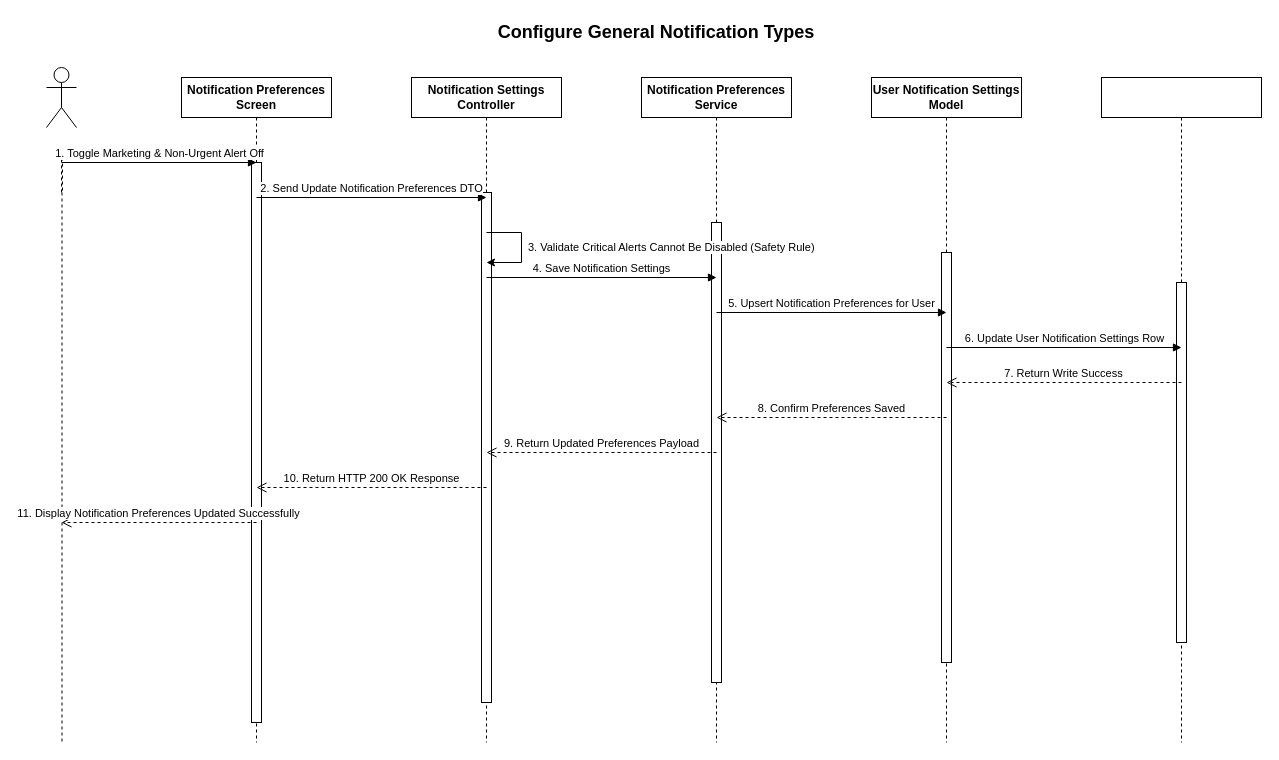
Image size: 1279x760. Some labels were removed from this diagram. Here are the shapes that lost their labels. From the top down, the box of each, then its label:
(46, 66, 76, 128): Camper
(1100, 76, 1262, 742): PostgreSQL Database
